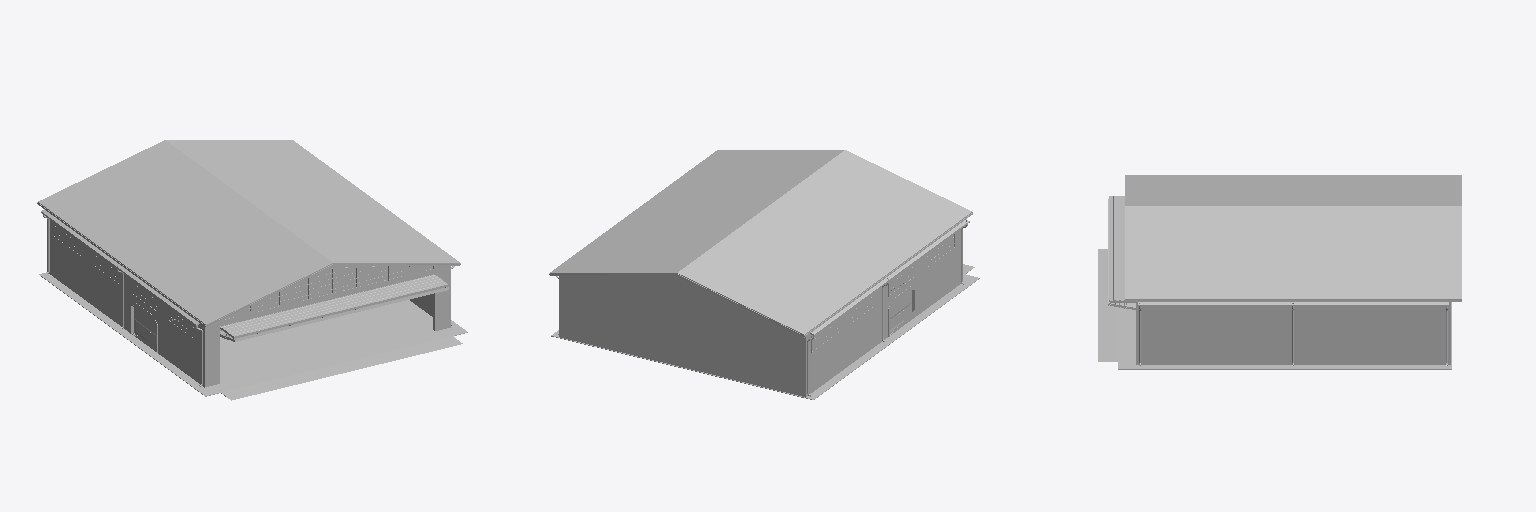
Rendered from Airport Hangar Opened Doors.obj.
3 renders of one model, left to right at view 1: azimuth 30°, elevation 25°; view 2: azimuth 150°, elevation 25°; view 3: azimuth 270°, elevation 25°, orthographic.
Parts seen in each view (by area): view 1: roof_Cube.002, floor_Cube.031, structure_Cube.001, door_uper_Cube.008, gutter_1_Cube.005, door_under_Cube.038, front_window_middle_Cube.010; view 2: roof_Cube.002, structure_Cube.001, floor_Cube.031, gutter_1_Cube.005; view 3: roof_Cube.002, structure_Cube.001, floor_Cube.031, door_uper_Cube.008, gutter_2_Cube.005, side_windows_right_Cube.033.
Part boxes in pixels (left/top/right/bottom): roof_Cube.002: left=37, top=140, right=460, bottom=327; floor_Cube.031: left=39, top=272, right=467, bottom=400; structure_Cube.001: left=49, top=220, right=448, bottom=386; door_uper_Cube.008: left=220, top=275, right=448, bottom=338; gutter_1_Cube.005: left=41, top=209, right=199, bottom=325; door_under_Cube.038: left=220, top=287, right=448, bottom=341; front_window_middle_Cube.010: left=317, top=268, right=338, bottom=297; roof_Cube.002: left=549, top=150, right=972, bottom=337; structure_Cube.001: left=561, top=229, right=961, bottom=396; floor_Cube.031: left=551, top=264, right=979, bottom=399; gutter_1_Cube.005: left=810, top=219, right=969, bottom=335; roof_Cube.002: left=1125, top=175, right=1461, bottom=301; structure_Cube.001: left=1141, top=306, right=1445, bottom=364; floor_Cube.031: left=1098, top=249, right=1451, bottom=369; door_uper_Cube.008: left=1109, top=196, right=1135, bottom=304; gutter_2_Cube.005: left=1138, top=302, right=1448, bottom=305; side_windows_right_Cube.033: left=1152, top=308, right=1438, bottom=324.
Bounding box in the file's own units: 38.53 × 13.9 × 46.34.